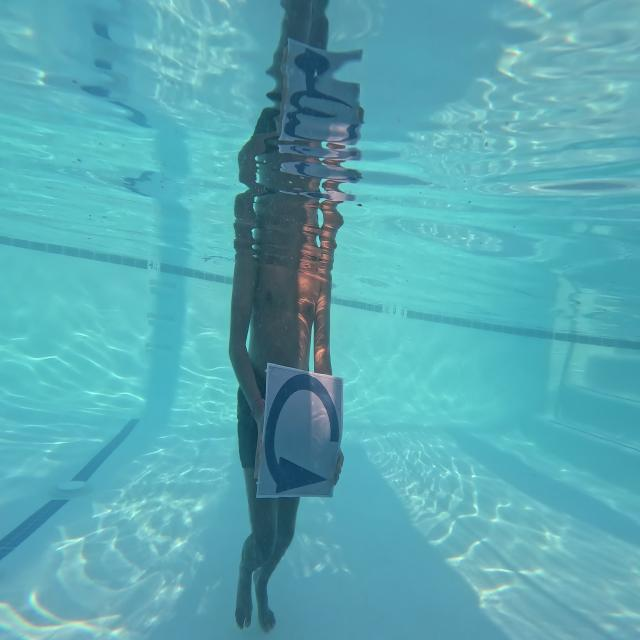blue_side: (248, 347, 352, 513)
